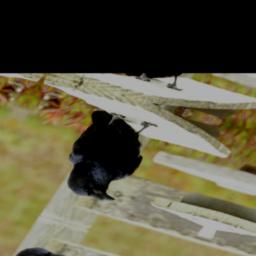Crow: (43, 107, 167, 205)
